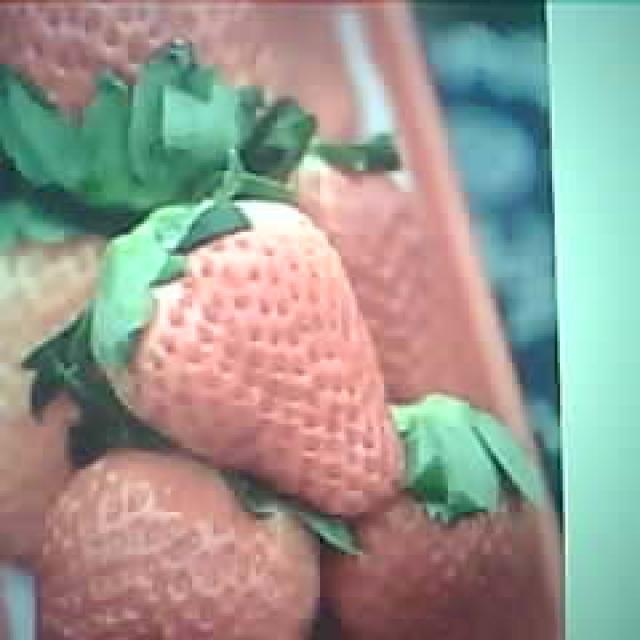ripe: (102, 200, 401, 512)
